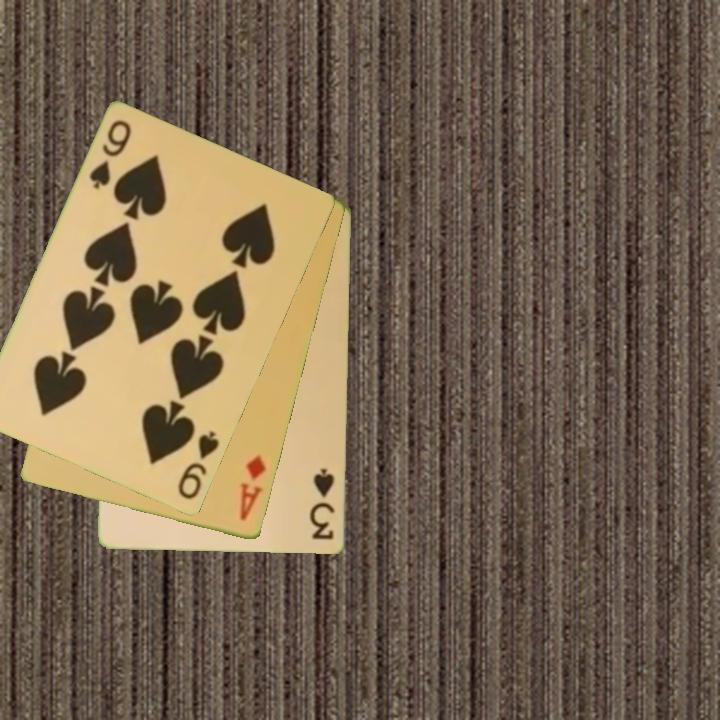3s: (307, 465, 338, 543)
9s: (86, 117, 135, 193), (174, 428, 223, 503)
Ad: (236, 452, 269, 524)
